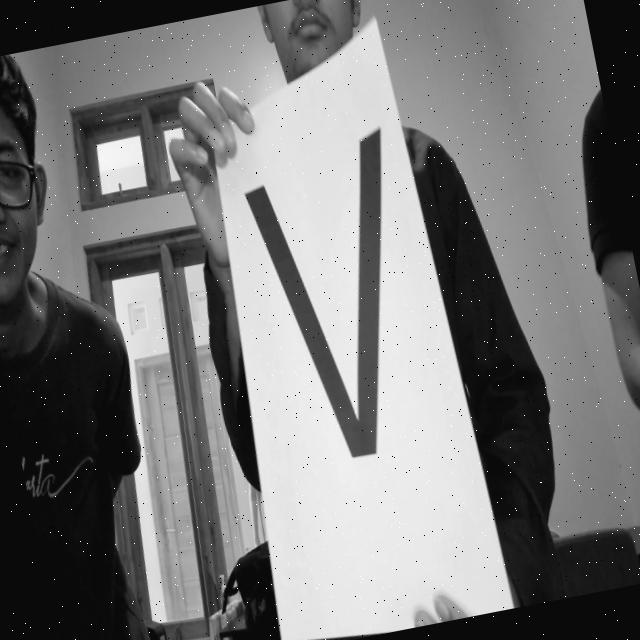v: (232, 120, 452, 484)
